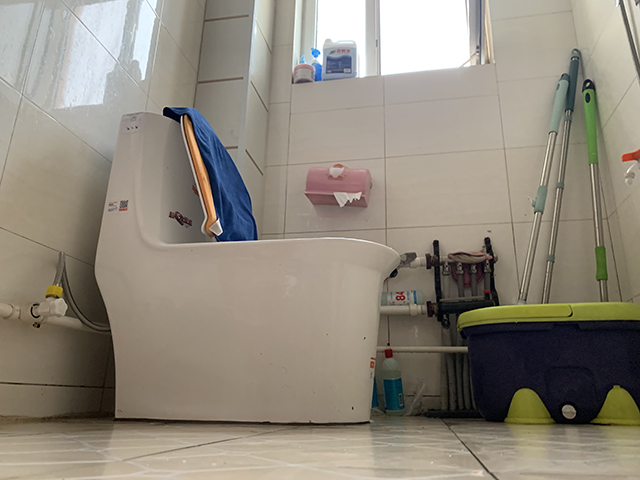closestool: (92, 106, 403, 426)
